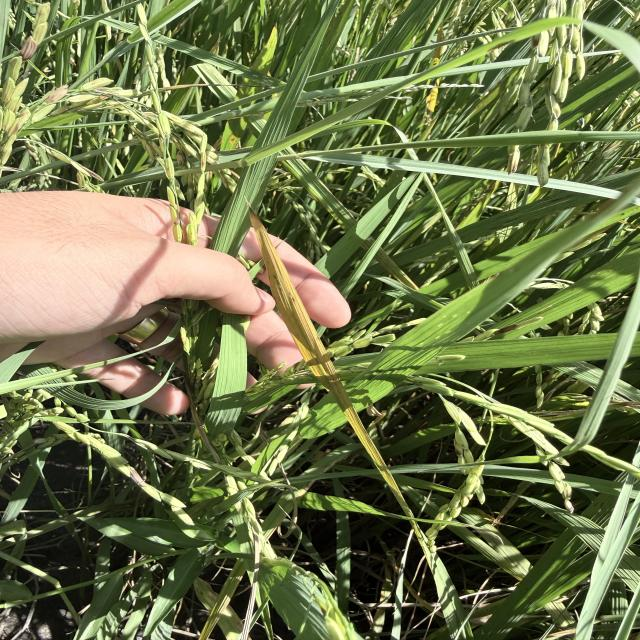Chay bia la: (243, 195, 377, 448)
